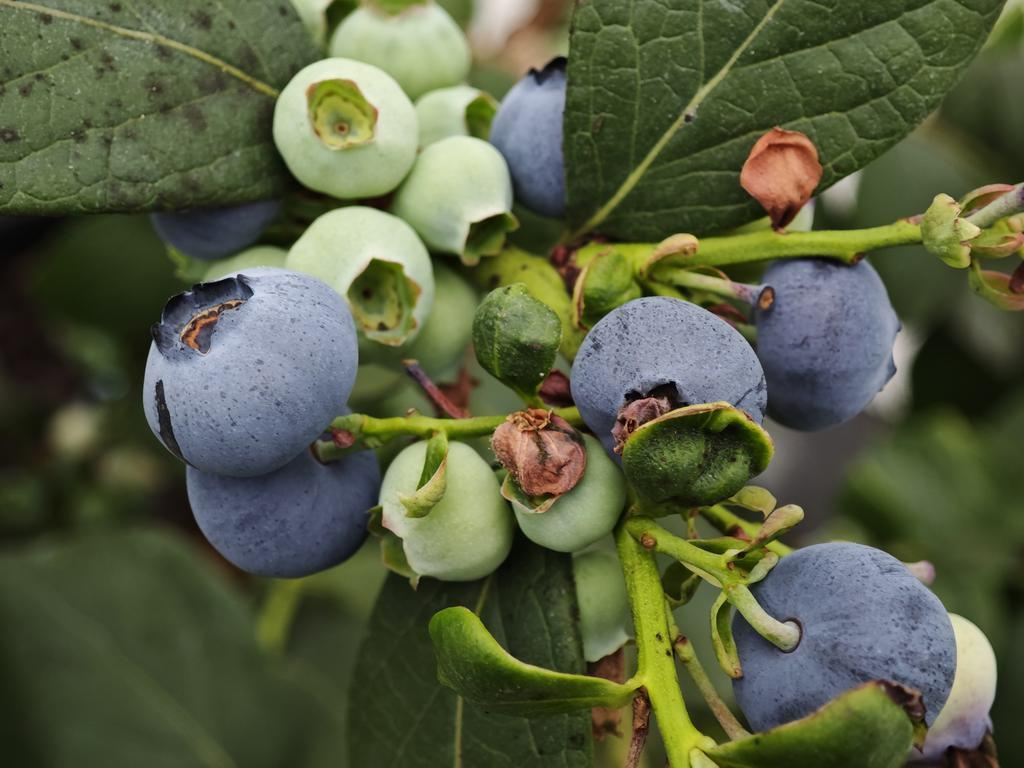RipeBlueBerry: (140, 272, 356, 474), (747, 538, 953, 743), (573, 291, 771, 457)
UnripeBlueBerry: (270, 53, 421, 196), (381, 440, 508, 584)
